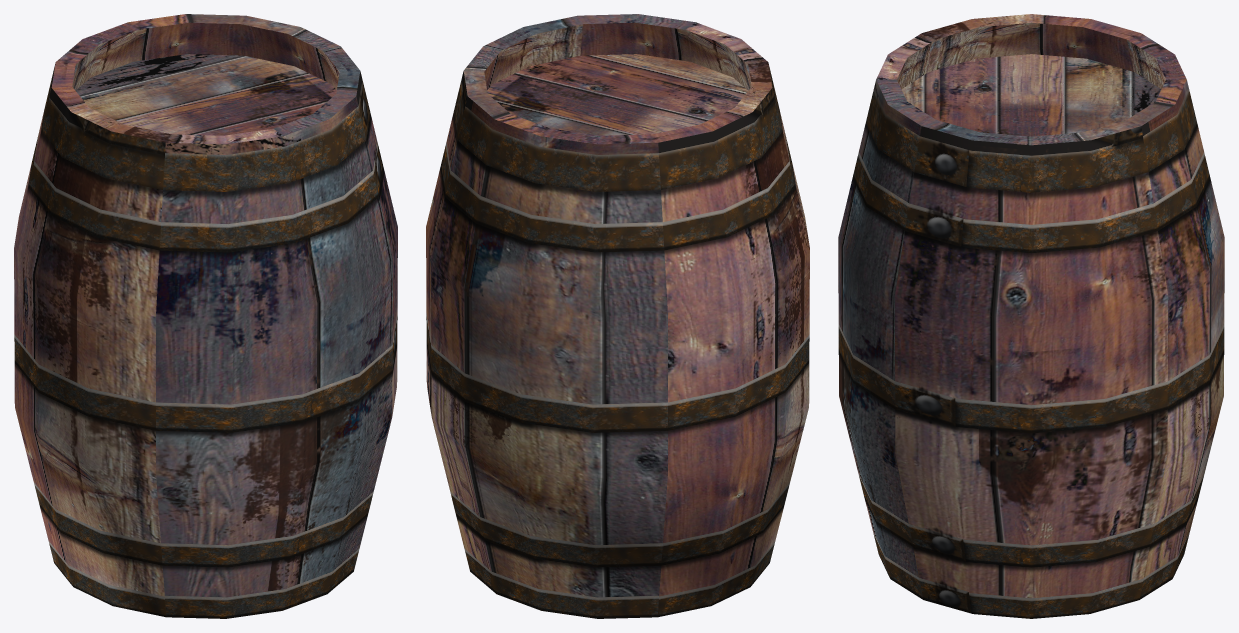
Rendered from Barrel_1.fbx.
3 renders of one model, left to right at view 1: azimuth 30°, elevation 25°; view 2: azimuth 150°, elevation 25°; view 3: azimuth 270°, elevation 25°, orthographic.
Parts seen in each view (by area): view 1: Barrel_0:Mesh; view 2: Barrel_0:Mesh; view 3: Barrel_0:Mesh.
Boxes of the visible parts, box(x1,y1,x2,y2) form: Barrel_0:Mesh: box(14, 14, 397, 618); Barrel_0:Mesh: box(426, 14, 809, 618); Barrel_0:Mesh: box(838, 14, 1224, 618).
Bounding box in the file's own units: 0.8792 × 1.19 × 0.8792.
